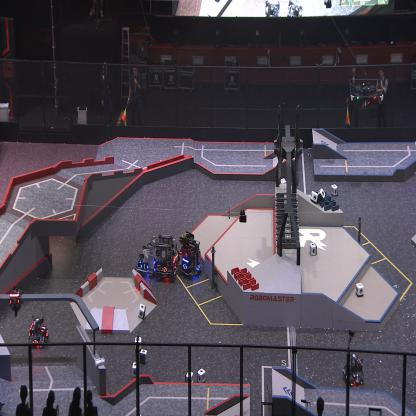car: (176, 230, 205, 279), (154, 233, 179, 280), (136, 234, 159, 276), (27, 312, 51, 350), (342, 352, 364, 389)
